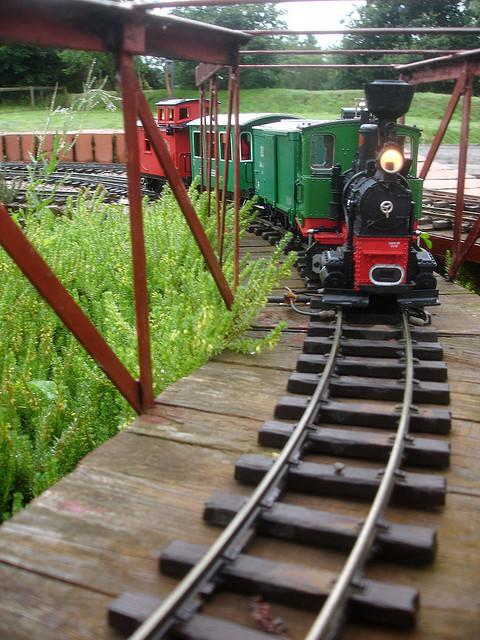Train: (154, 75, 424, 308)
